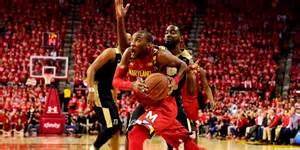basketball: (144, 72, 170, 99)
